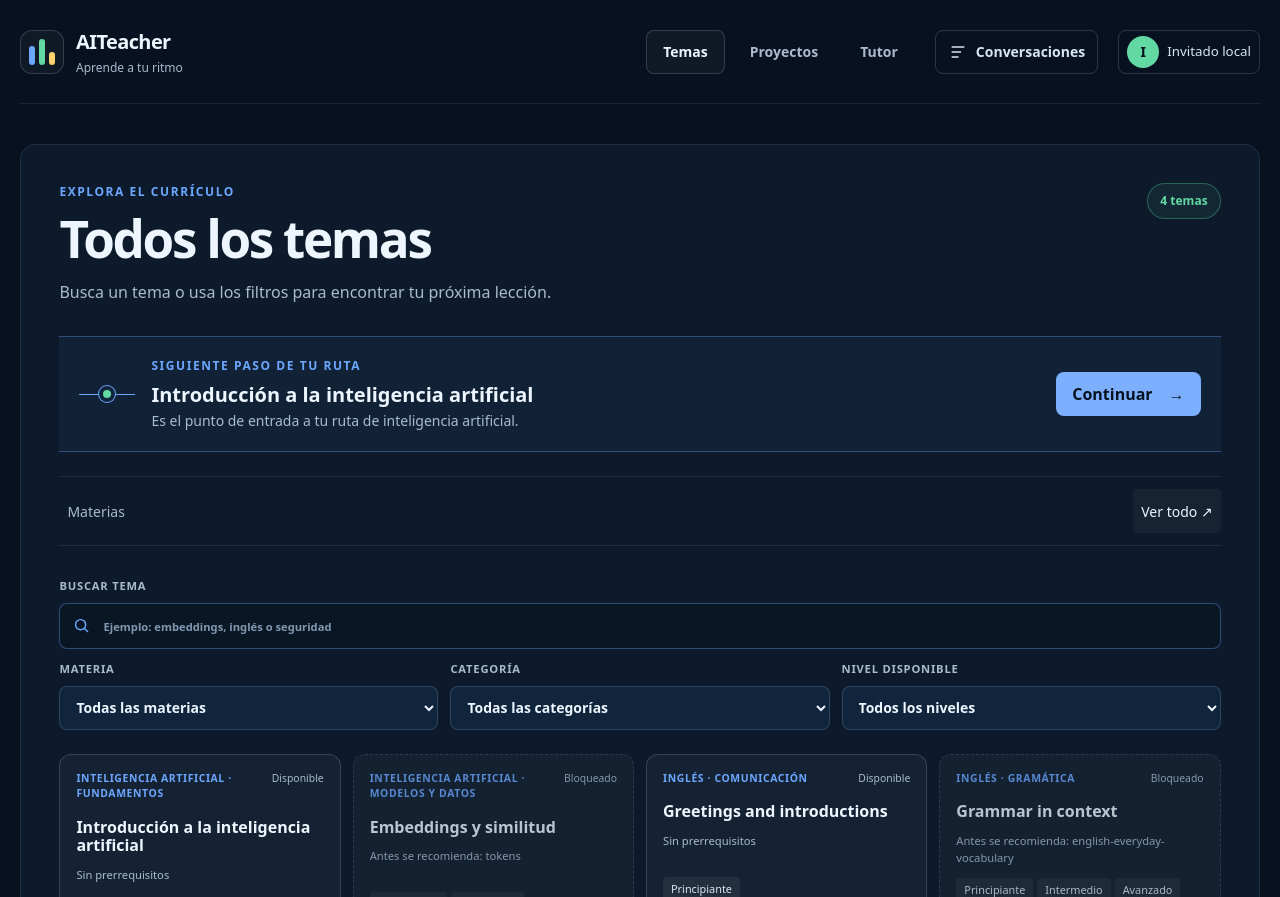
Scenario: CatalogScreen › explora temas reales y mantiene los filtros en la URL
Expected: the heading "Todos los temas" is shown, x1=59 y1=209 x2=469 y2=268
Select "Inglés" in the dropdown labelled "Materia": (249, 708) x1=59 y1=686 x2=438 y2=730
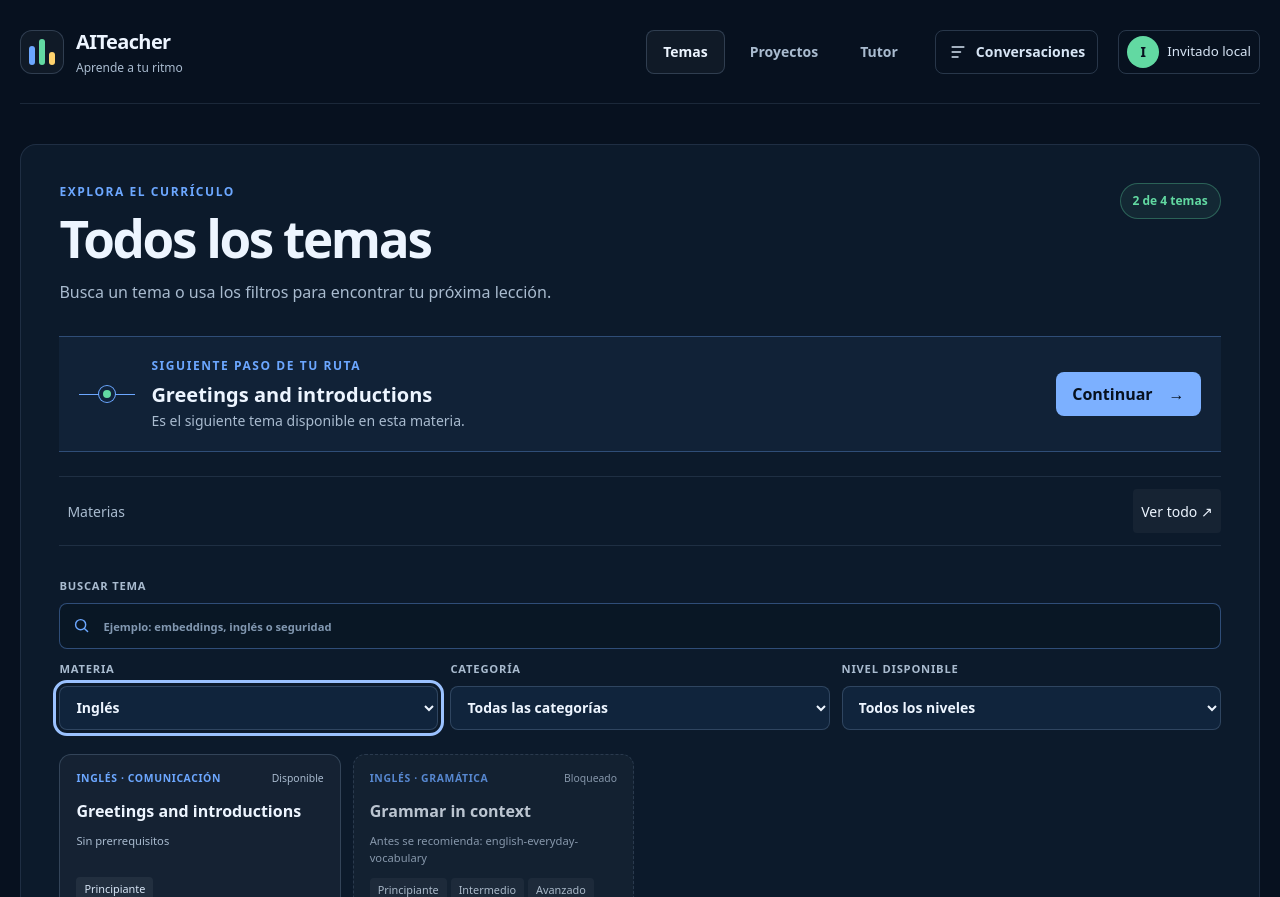
Expected: the heading "Greetings and introductions" below "Comunicación" is shown, x1=76 y1=802 x2=324 y2=821
In the search field labelled "Buscar tema": (656, 626) x1=104 y1=604 x2=1208 y2=648, type "grammar"
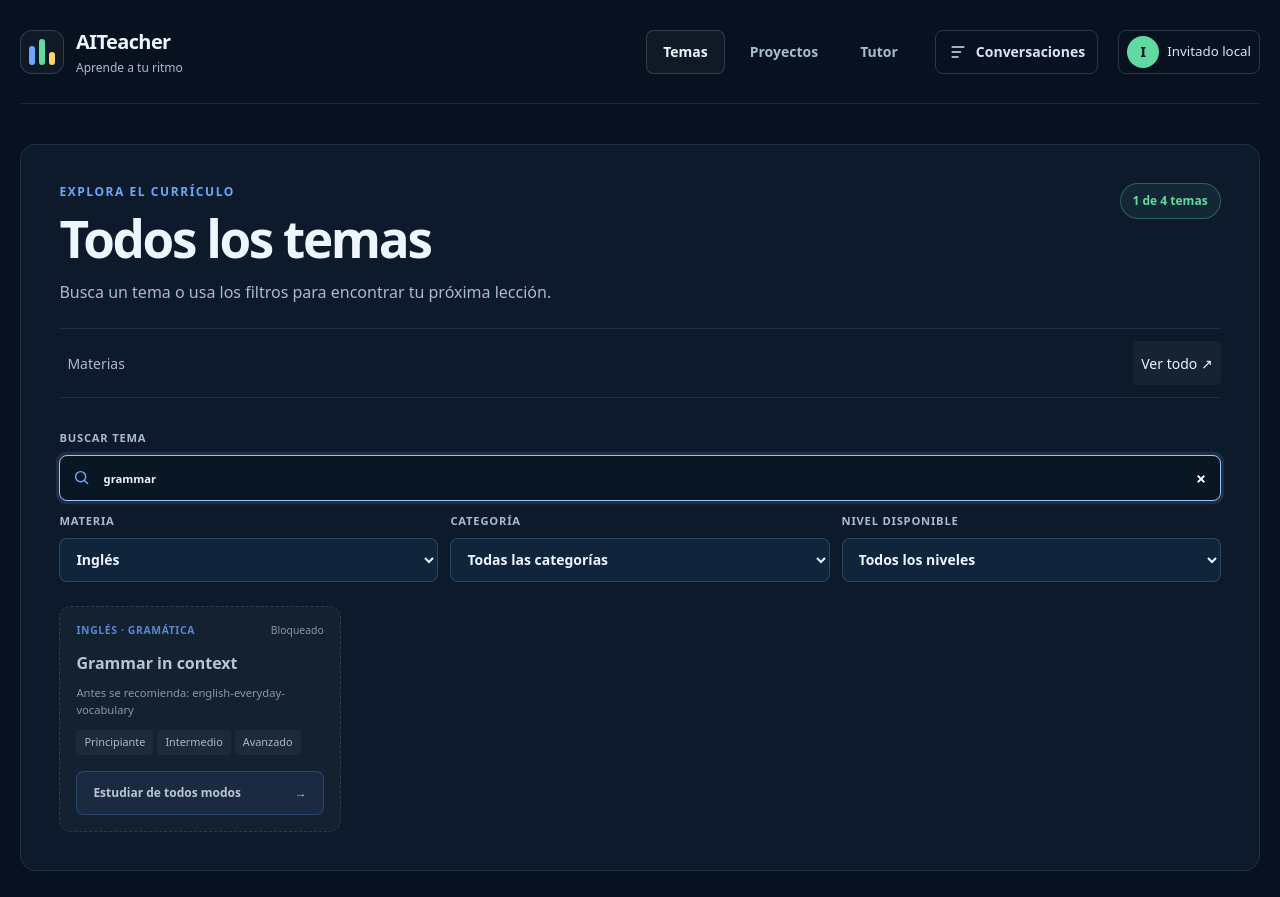
Expected: the number of list items is 1, x1=59 y1=606 x2=341 y2=832
